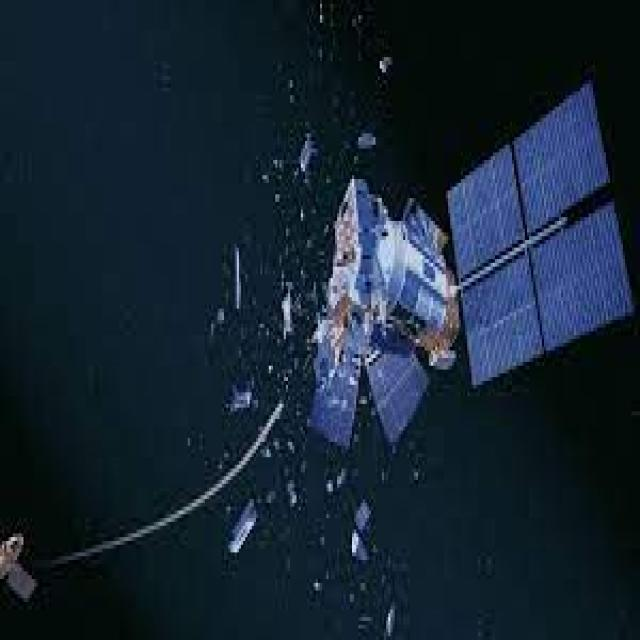satellite: (257, 127, 640, 528)
